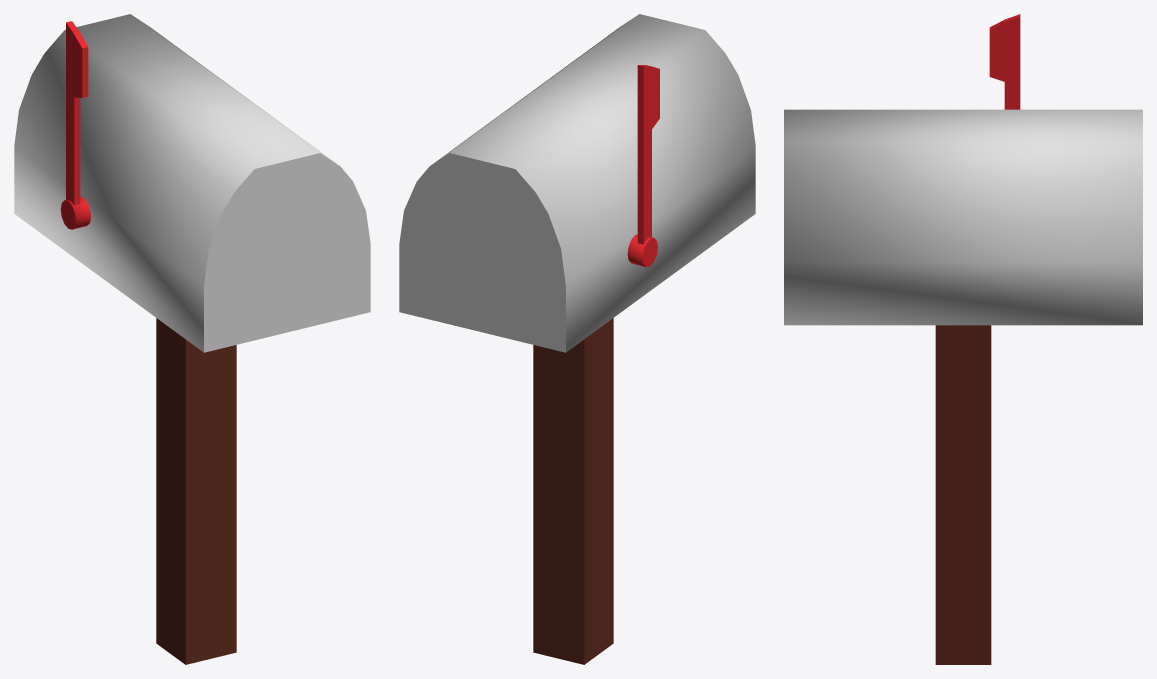
Rendered from post_office.glb.
The picture shows the model from 3 angles, left to right: view 1: azimuth 30°, elevation 25°; view 2: azimuth 150°, elevation 25°; view 3: azimuth 270°, elevation 25°; orthographic projection. The views are drawn at different scales.
Parts seen in each view (by area): view 1: Cube, Cube.001; view 2: Cube, Cube.001; view 3: Cube, Cube.001.
Part boxes in pixels (<box>): Cube: <box>14,14,370,664</box>; Cube.001: <box>60,21,90,229</box>; Cube: <box>399,14,755,664</box>; Cube.001: <box>627,65,659,266</box>; Cube: <box>784,109,1142,664</box>; Cube.001: <box>989,14,1020,109</box>.
Size of the model in its own units: 2.18 by 7.2 by 3.95.
